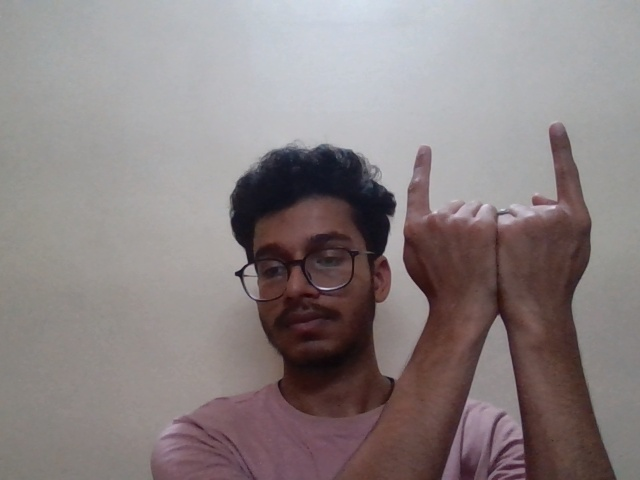when: (396, 117, 604, 316)
